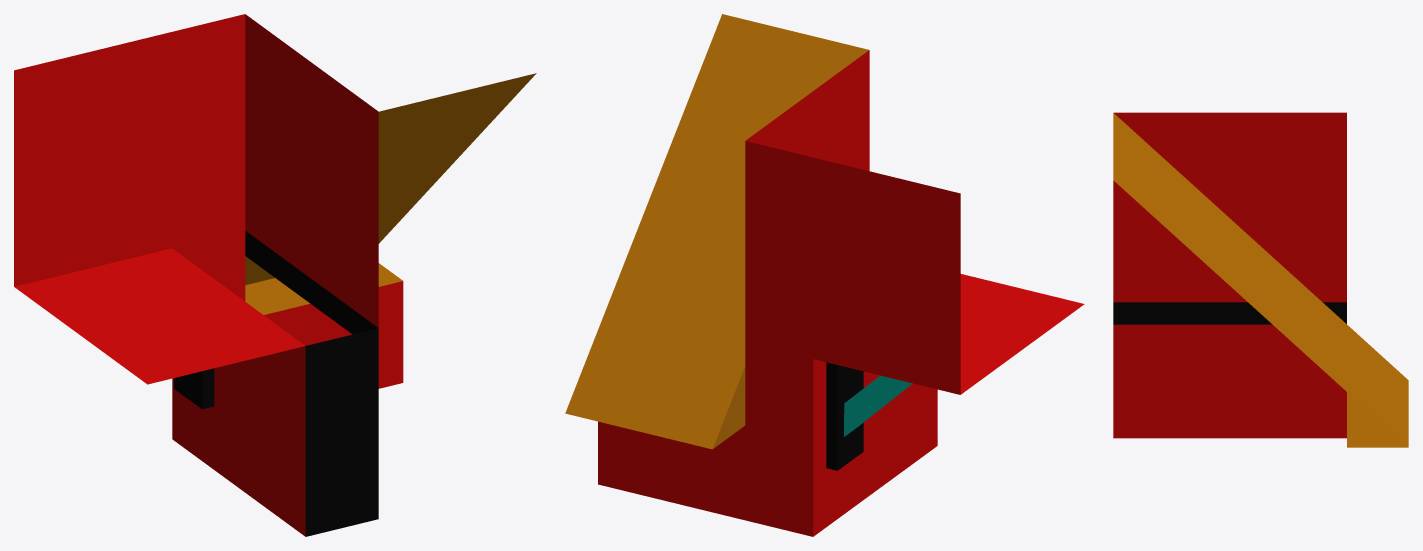
3 renders of one model, left to right at view 1: azimuth 30°, elevation 25°; view 2: azimuth 150°, elevation 25°; view 3: azimuth 270°, elevation 25°, orthographic. The views are drawn at different scales.
Parts seen in each view (by area): view 1: None_E_S_E_E_E_E_E_A_None; view 2: None_E_S_E_E_E_E_E_A_None; view 3: None_E_S_E_E_E_E_E_A_None.
Boxes of the visible parts, x1=… form: None_E_S_E_E_E_E_E_A_None: x1=14, y1=14, x2=536, y2=536; None_E_S_E_E_E_E_E_A_None: x1=565, y1=14, x2=1084, y2=536; None_E_S_E_E_E_E_E_A_None: x1=1113, y1=112, x2=1408, y2=447.
Size of the model in its own units: 100 by 100 by 75.
